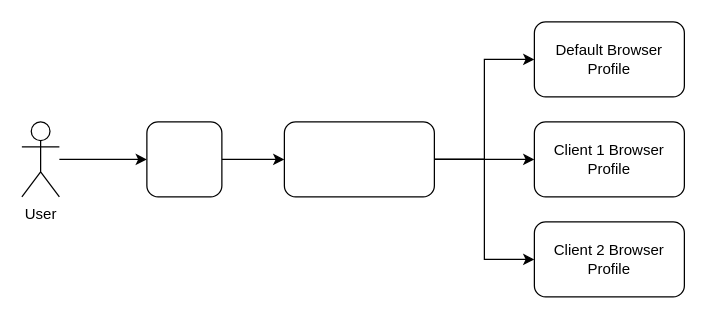
The diagram is 706 pixels wide and 319 high, and some of its shapes have lost their labels. The shapes that lost their labels are listed below. From the top down, each one's centre as x and y in pixels, then its label:
point (184, 159): OS
point (358, 159): Browser Hub
